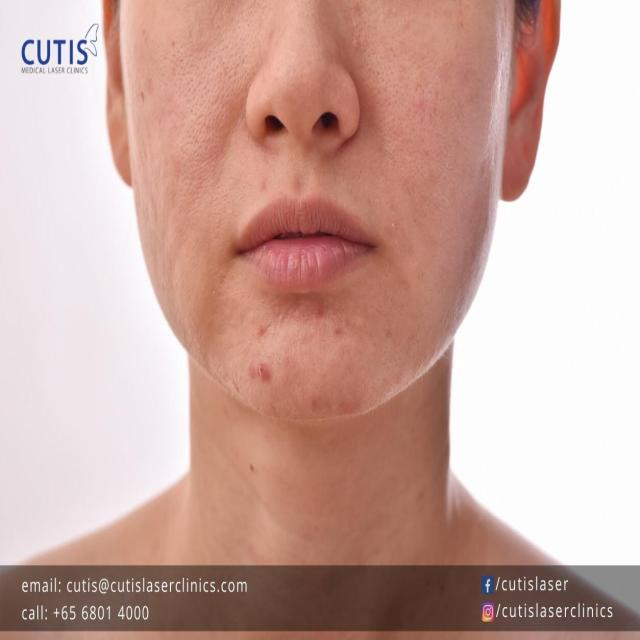Acne: (376, 42, 497, 330), (120, 50, 226, 317), (228, 301, 406, 416)
Dry-Skin: (368, 21, 488, 128), (182, 86, 238, 170)
